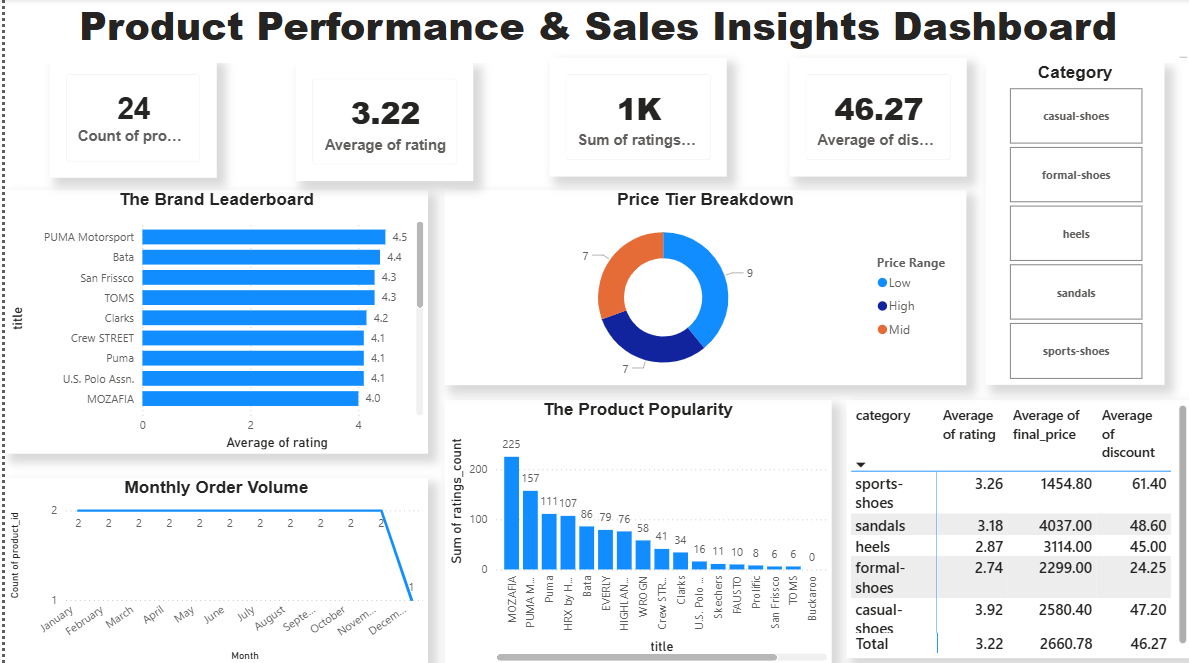

This screenshot's page, from the dashboard's own definition file:
{"tool":"powerbi","page":{"name":"Page 1","canvas":[1280,720],"ordinal":0},"visuals":[{"type":"clusteredBarChart","title":"The Brand Leaderboard","fields":{"Category":["fashion_dataset.title"],"Y":["Avg(fashion_dataset.rating)"]},"box":[0,207.3,456.6,285],"z":0},{"type":"clusteredColumnChart","title":"The Product Popularity","fields":{"Category":["fashion_dataset.title"],"Y":["Sum(fashion_dataset.ratings_count)"]},"box":[474.4,434,417.8,286.6],"z":1000},{"type":"pivotTable","fields":{"Rows":["fashion_dataset.category"],"Values":["Avg(fashion_dataset.rating)","Avg(fashion_dataset.final_price)","Avg(fashion_dataset.discount)"]},"box":[908.4,434,372.4,278.5],"z":2000},{"type":"lineChart","title":"Monthly Order Volume","fields":{"Category":["fashion_dataset.order_date.Variation.Date Hierarchy.Month"],"Y":["CountNonNull(fashion_dataset.product_id)"]},"box":[0,518.2,456.6,202.4],"z":3000},{"type":"donutChart","title":"Price Tier Breakdown","fields":{"Category":["fashion_dataset.Price Range"],"Y":["CountNonNull(fashion_dataset.title)"]},"box":[474.4,207.3,563.5,210.5],"z":4000},{"type":"slicer","title":"Category","fields":{"Values":["fashion_dataset.category"]},"box":[1059,69.6,192.7,348.1],"z":5000},{"type":"cardVisual","fields":{"Data":["Count(fashion_dataset.product_id)"]},"box":[48.6,64.8,179.7,129.5],"z":6000},{"type":"cardVisual","fields":{"Data":["Avg(fashion_dataset.rating)"]},"box":[314.1,69.6,191.1,127.9],"z":7000},{"type":"textbox","title":"Product Performance & Sales Insights Dashboard","box":[0,0,1280.8,69.6],"z":8000},{"type":"cardVisual","fields":{"Data":["Avg(fashion_dataset.discount)"]},"box":[846.9,64.8,191.1,127.9],"z":9000},{"type":"cardVisual","fields":{"Data":["Sum(fashion_dataset.ratings_count)"]},"box":[587.8,64.8,191.1,127.9],"z":10000}]}

Visuals, with their boxes in screenshot pixels (x1, y1, x2, y2), scaled from the page's 1280x720 canvas onto the 1189x663 screenshot:
"The Brand Leaderboard" clusteredBarChart: [0, 191, 424, 453]
"The Product Popularity" clusteredColumnChart: [441, 400, 829, 662]
pivotTable - fashion_dataset.category x Avg(fashion_dataset.rating): [844, 400, 1188, 656]
"Monthly Order Volume" lineChart: [0, 477, 424, 662]
"Price Tier Breakdown" donutChart: [441, 191, 964, 385]
"Category" slicer: [984, 64, 1163, 385]
cardVisual - Count(fashion_dataset.product_id): [45, 60, 212, 179]
cardVisual - Avg(fashion_dataset.rating): [292, 64, 469, 182]
"Product Performance & Sales Insights Dashboard" textbox: [0, 0, 1188, 64]
cardVisual - Avg(fashion_dataset.discount): [787, 60, 964, 177]
cardVisual - Sum(fashion_dataset.ratings_count): [546, 60, 724, 177]
